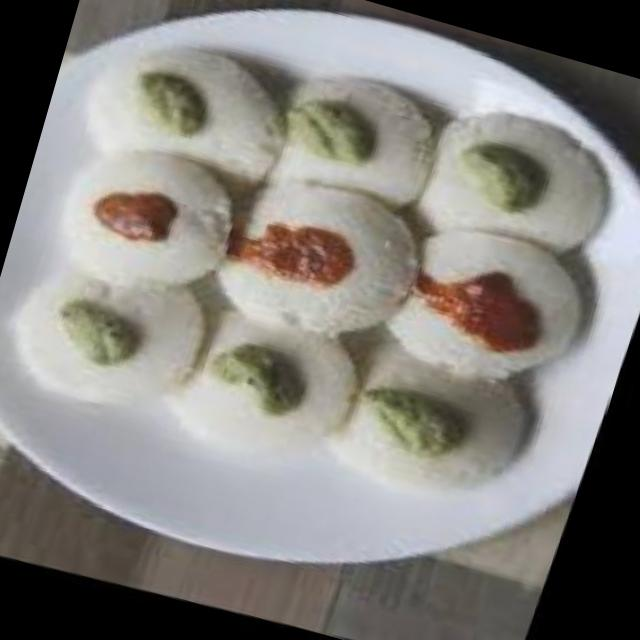idli: (316, 328, 546, 532), (208, 162, 437, 364), (70, 18, 308, 209), (379, 215, 601, 412), (0, 243, 218, 432), (157, 296, 375, 482), (411, 95, 625, 282), (44, 128, 250, 317), (254, 56, 456, 226)
